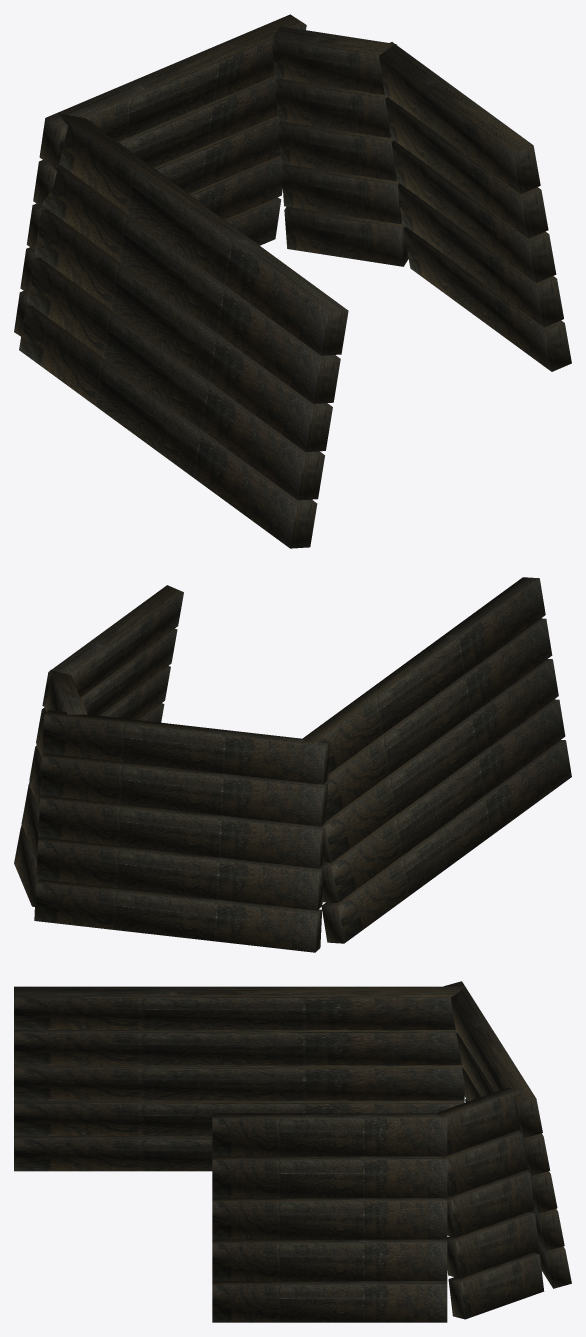
The model's file is WoodenBarrierPartTest07.obj.
3 views of the same model, one above another, from view 1: azimuth 30°, elevation 25°; view 2: azimuth 150°, elevation 25°; view 3: azimuth 270°, elevation 25° (orthographic). The views are drawn at different scales.
Visible parts, largest first — view 1: Box004; view 2: Box004; view 3: Box004.
Boxes of the visible parts, x1,y1,x2,y2 form: Box004: [14, 14, 571, 548]; Box004: [14, 577, 571, 952]; Box004: [14, 981, 571, 1322].
Bounding box in the file's own units: 116 × 63.84 × 168.
